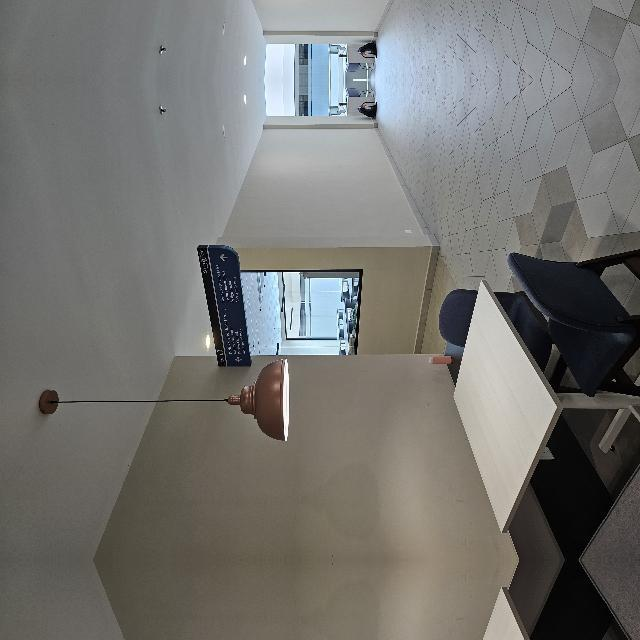obstacle: (0, 400, 326, 628), (0, 491, 326, 640), (440, 435, 460, 459)
